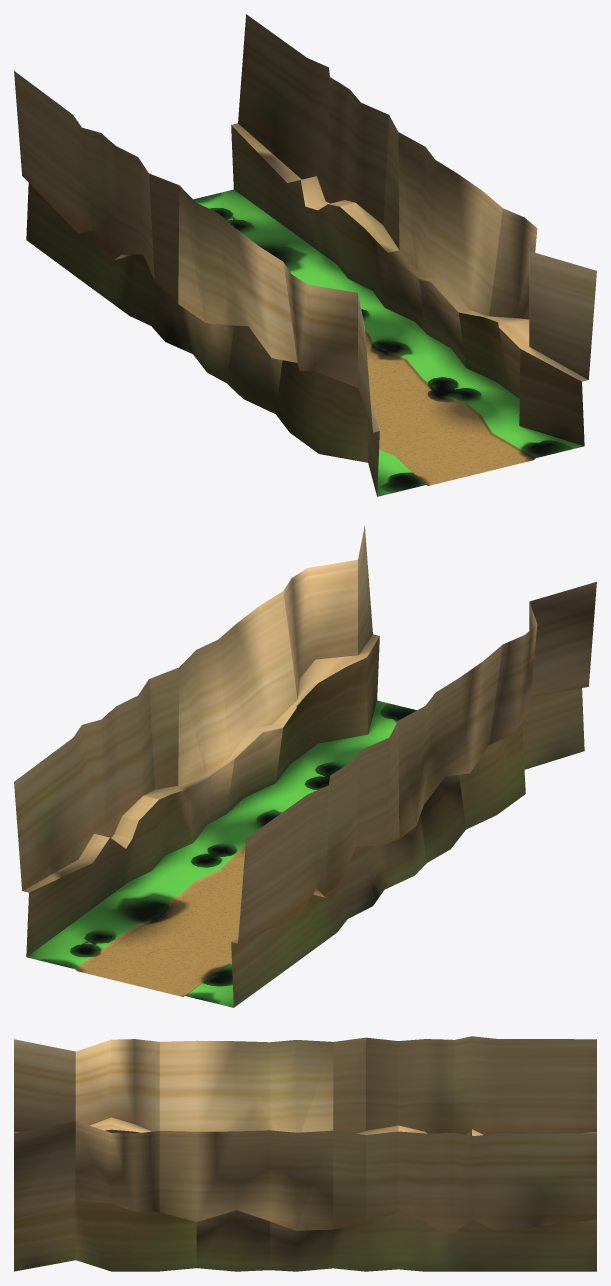
The model's file is CountingScene.FBX.
3 renders of one model, top to bottom at view 1: azimuth 30°, elevation 25°; view 2: azimuth 150°, elevation 25°; view 3: azimuth 270°, elevation 25°, orthographic. The views are drawn at different scales.
Parts seen in each view (by area): view 1: CountTerrain; view 2: CountTerrain; view 3: CountTerrain.
Part boxes in pixels (box(x1,y1,x2,y2)): CountTerrain: box(14, 14, 596, 496); CountTerrain: box(14, 525, 596, 1007); CountTerrain: box(14, 1036, 596, 1271).
Size of the model in its own units: 4327 by 10648 by 2913.
Materials: 1 (1 with a texture image).
